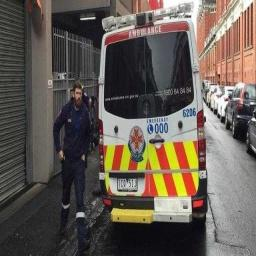ambulance: (99, 3, 206, 223)
